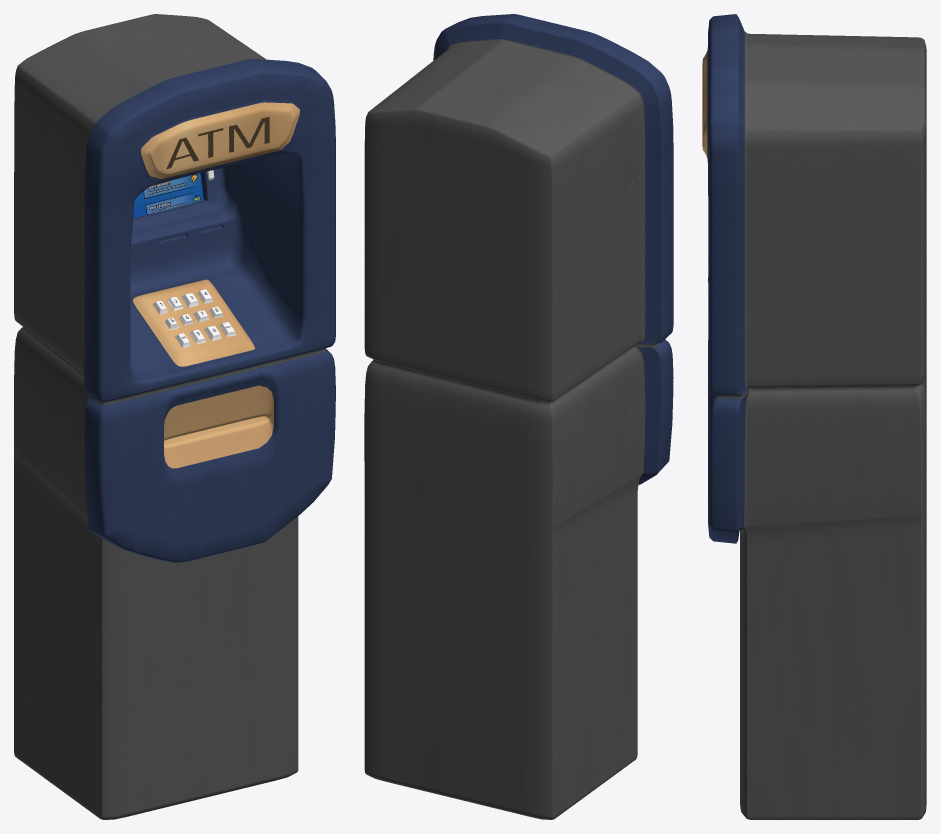
File: high_detailed_automatic_teller_machine_atm.glb
3 views of the same model, side by side, from view 1: azimuth 30°, elevation 25°; view 2: azimuth 150°, elevation 25°; view 3: azimuth 270°, elevation 25° (orthographic). The views are drawn at different scales.
Visible parts, largest first — view 1: ATM_HighRes2; view 2: ATM_HighRes2; view 3: ATM_HighRes2.
Part boxes in pixels (bbox=[...]): ATM_HighRes2: bbox=[14, 14, 335, 819]; ATM_HighRes2: bbox=[364, 14, 673, 819]; ATM_HighRes2: bbox=[702, 14, 926, 819].
Size of the model in its own units: 526 by 1521 by 423.
Materials: 6 (6 with a texture image).
